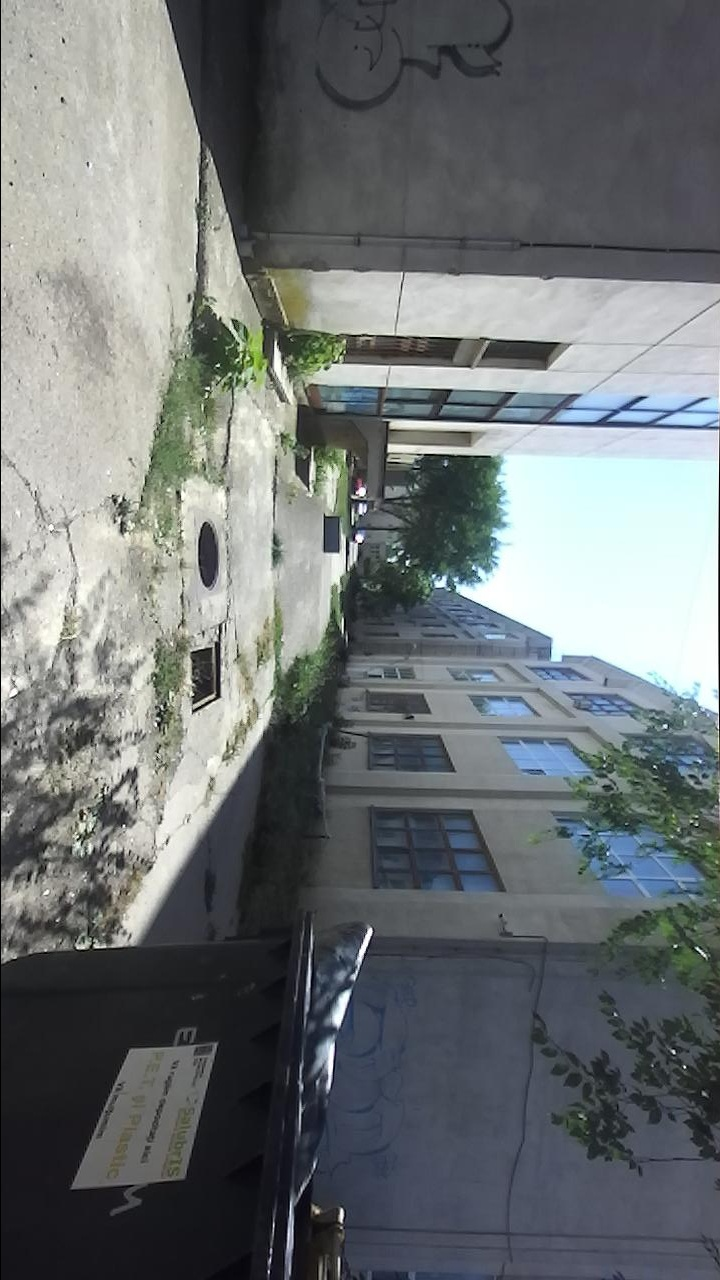drain: (183, 636, 224, 720), (196, 515, 225, 595)
